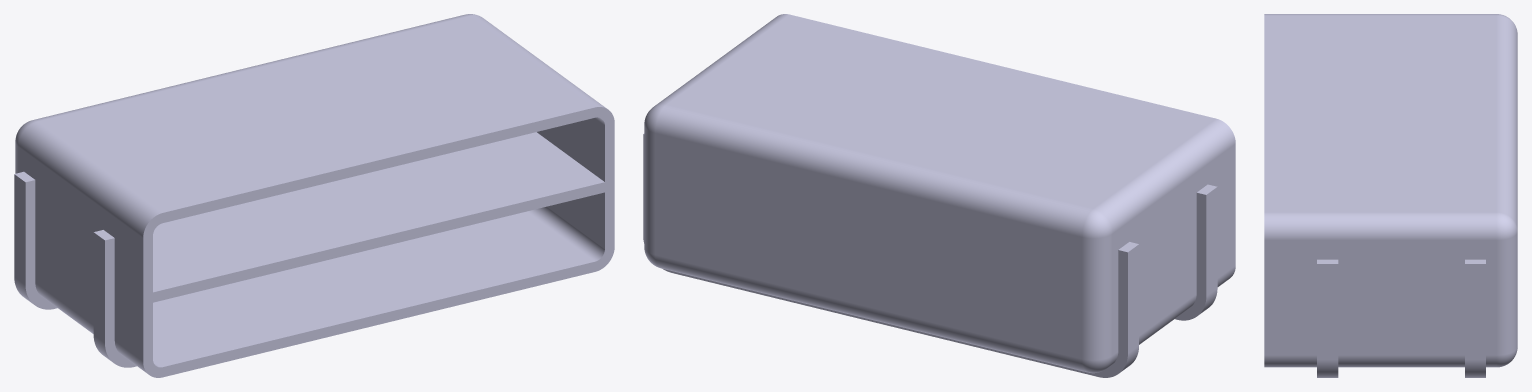
The model's file is furniture.gltf.
3 views of the same model, side by side, from view 1: azimuth 30°, elevation 25°; view 2: azimuth 150°, elevation 25°; view 3: azimuth 270°, elevation 25° (orthographic). The views are drawn at different scales.
Parts seen in each view (by area): view 1: body_clone, stand_clone; view 2: body_clone, stand_clone; view 3: body_clone, stand_clone.
Boxes of the visible parts, box(x1,y1,x2,y2) form: body_clone: box(15, 14, 614, 377); stand_clone: box(14, 171, 136, 367); body_clone: box(644, 14, 1235, 373); stand_clone: box(643, 133, 1217, 377); body_clone: box(1264, 14, 1517, 367); stand_clone: box(1317, 259, 1485, 377).
Bounding box in the file's own units: 1.25 × 0.425 × 0.6.
